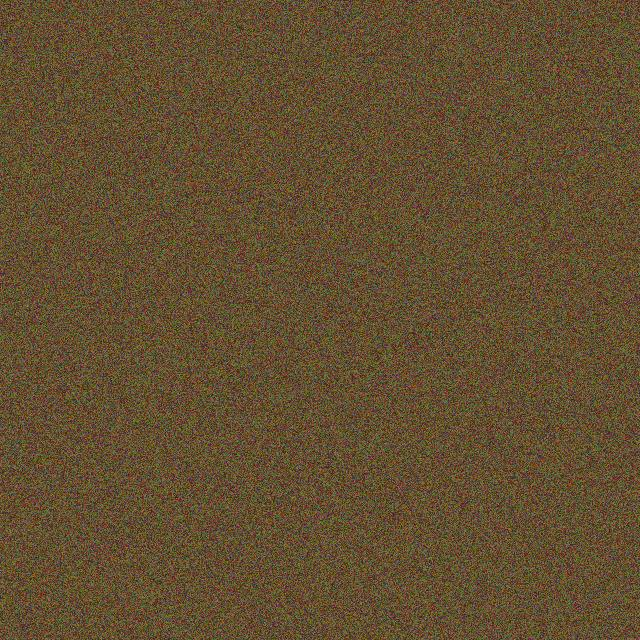ghost_net: (285, 231, 357, 281)
